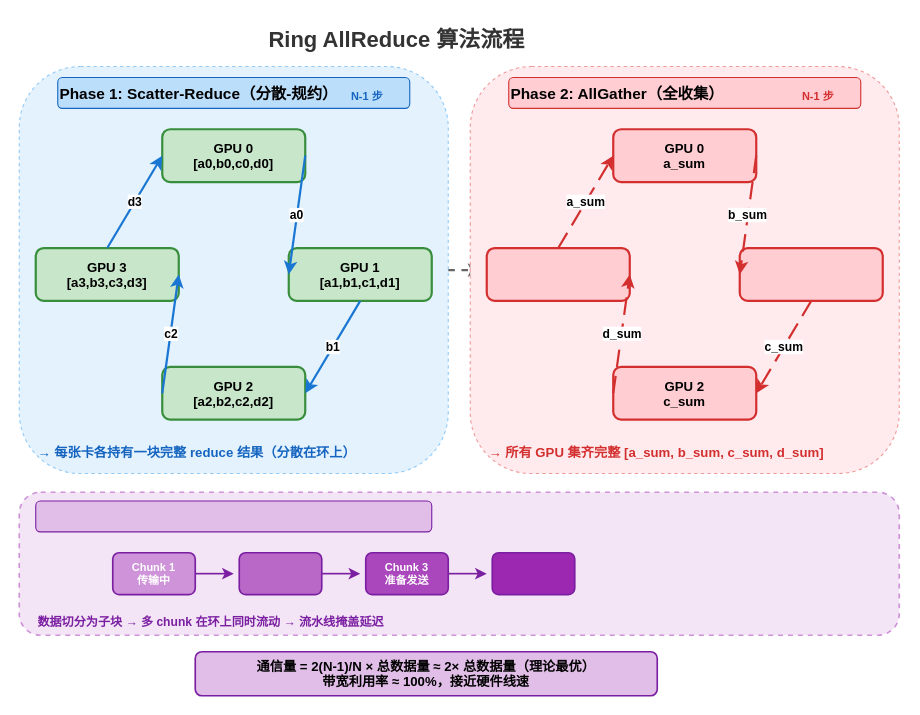
Image size: 920x715. Some labels were removed from this diagram. The box of each missing label's shape, as (x1, y1, x2, y2) in pixels:
Chunk 2 归约中: (238, 551, 322, 595)
Chunk 4 待处理: (491, 551, 575, 595)
GPU 1 b_sum: (738, 246, 883, 301)
GPU 3 d_sum: (485, 246, 630, 301)
流水线化 (Pipelining) — 让 Ring 真正跑满带宽: (35, 500, 432, 532)
